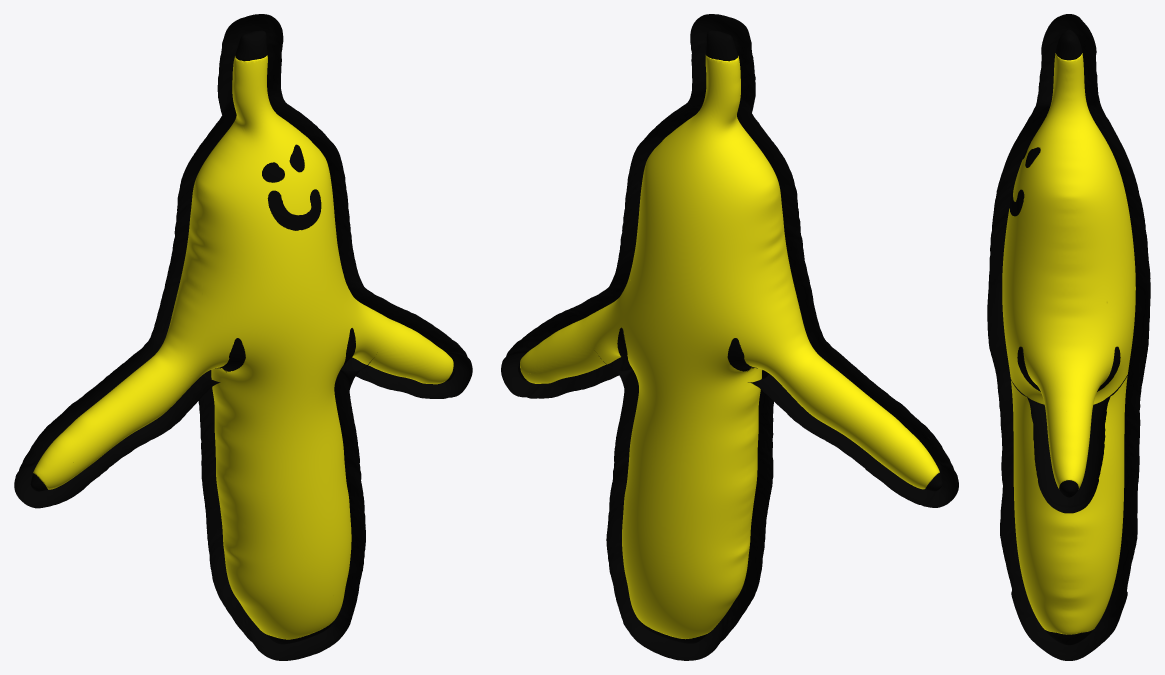
File: banana_arms.obj
The picture shows the model from 3 angles, left to right: view 1: azimuth 30°, elevation 25°; view 2: azimuth 150°, elevation 25°; view 3: azimuth 270°, elevation 25°; orthographic projection. The views are drawn at different scales.
Visible parts, largest first — view 1: Banana_Body, Outline_Ink_Body, Banana_Tips_Black, Face_Mouth; view 2: Banana_Body, Outline_Ink_Body, Banana_Tips_Black; view 3: Banana_Body, Outline_Ink_Body, Banana_Tips_Black, Face_Mouth, InkLine_ArmSeam_2, InkLine_ArmSeam_2_Back.
Boxes of the visible parts, <box> form: Banana_Body: <box>33,55,453,639</box>; Outline_Ink_Body: <box>14,14,472,660</box>; Banana_Tips_Black: <box>30,30,455,644</box>; Face_Mouth: <box>267,189,321,230</box>; Banana_Body: <box>520,55,939,639</box>; Outline_Ink_Body: <box>501,14,958,660</box>; Banana_Tips_Black: <box>518,30,942,643</box>; Banana_Body: <box>1002,53,1135,634</box>; Outline_Ink_Body: <box>987,14,1150,660</box>; Banana_Tips_Black: <box>1043,29,1093,645</box>; Face_Mouth: <box>1009,162,1024,216</box>; InkLine_ArmSeam_2: <box>1017,346,1040,391</box>; InkLine_ArmSeam_2_Back: <box>1097,346,1120,391</box>.
Bounding box in the file's own units: 1.24 × 1.69 × 0.4085.
